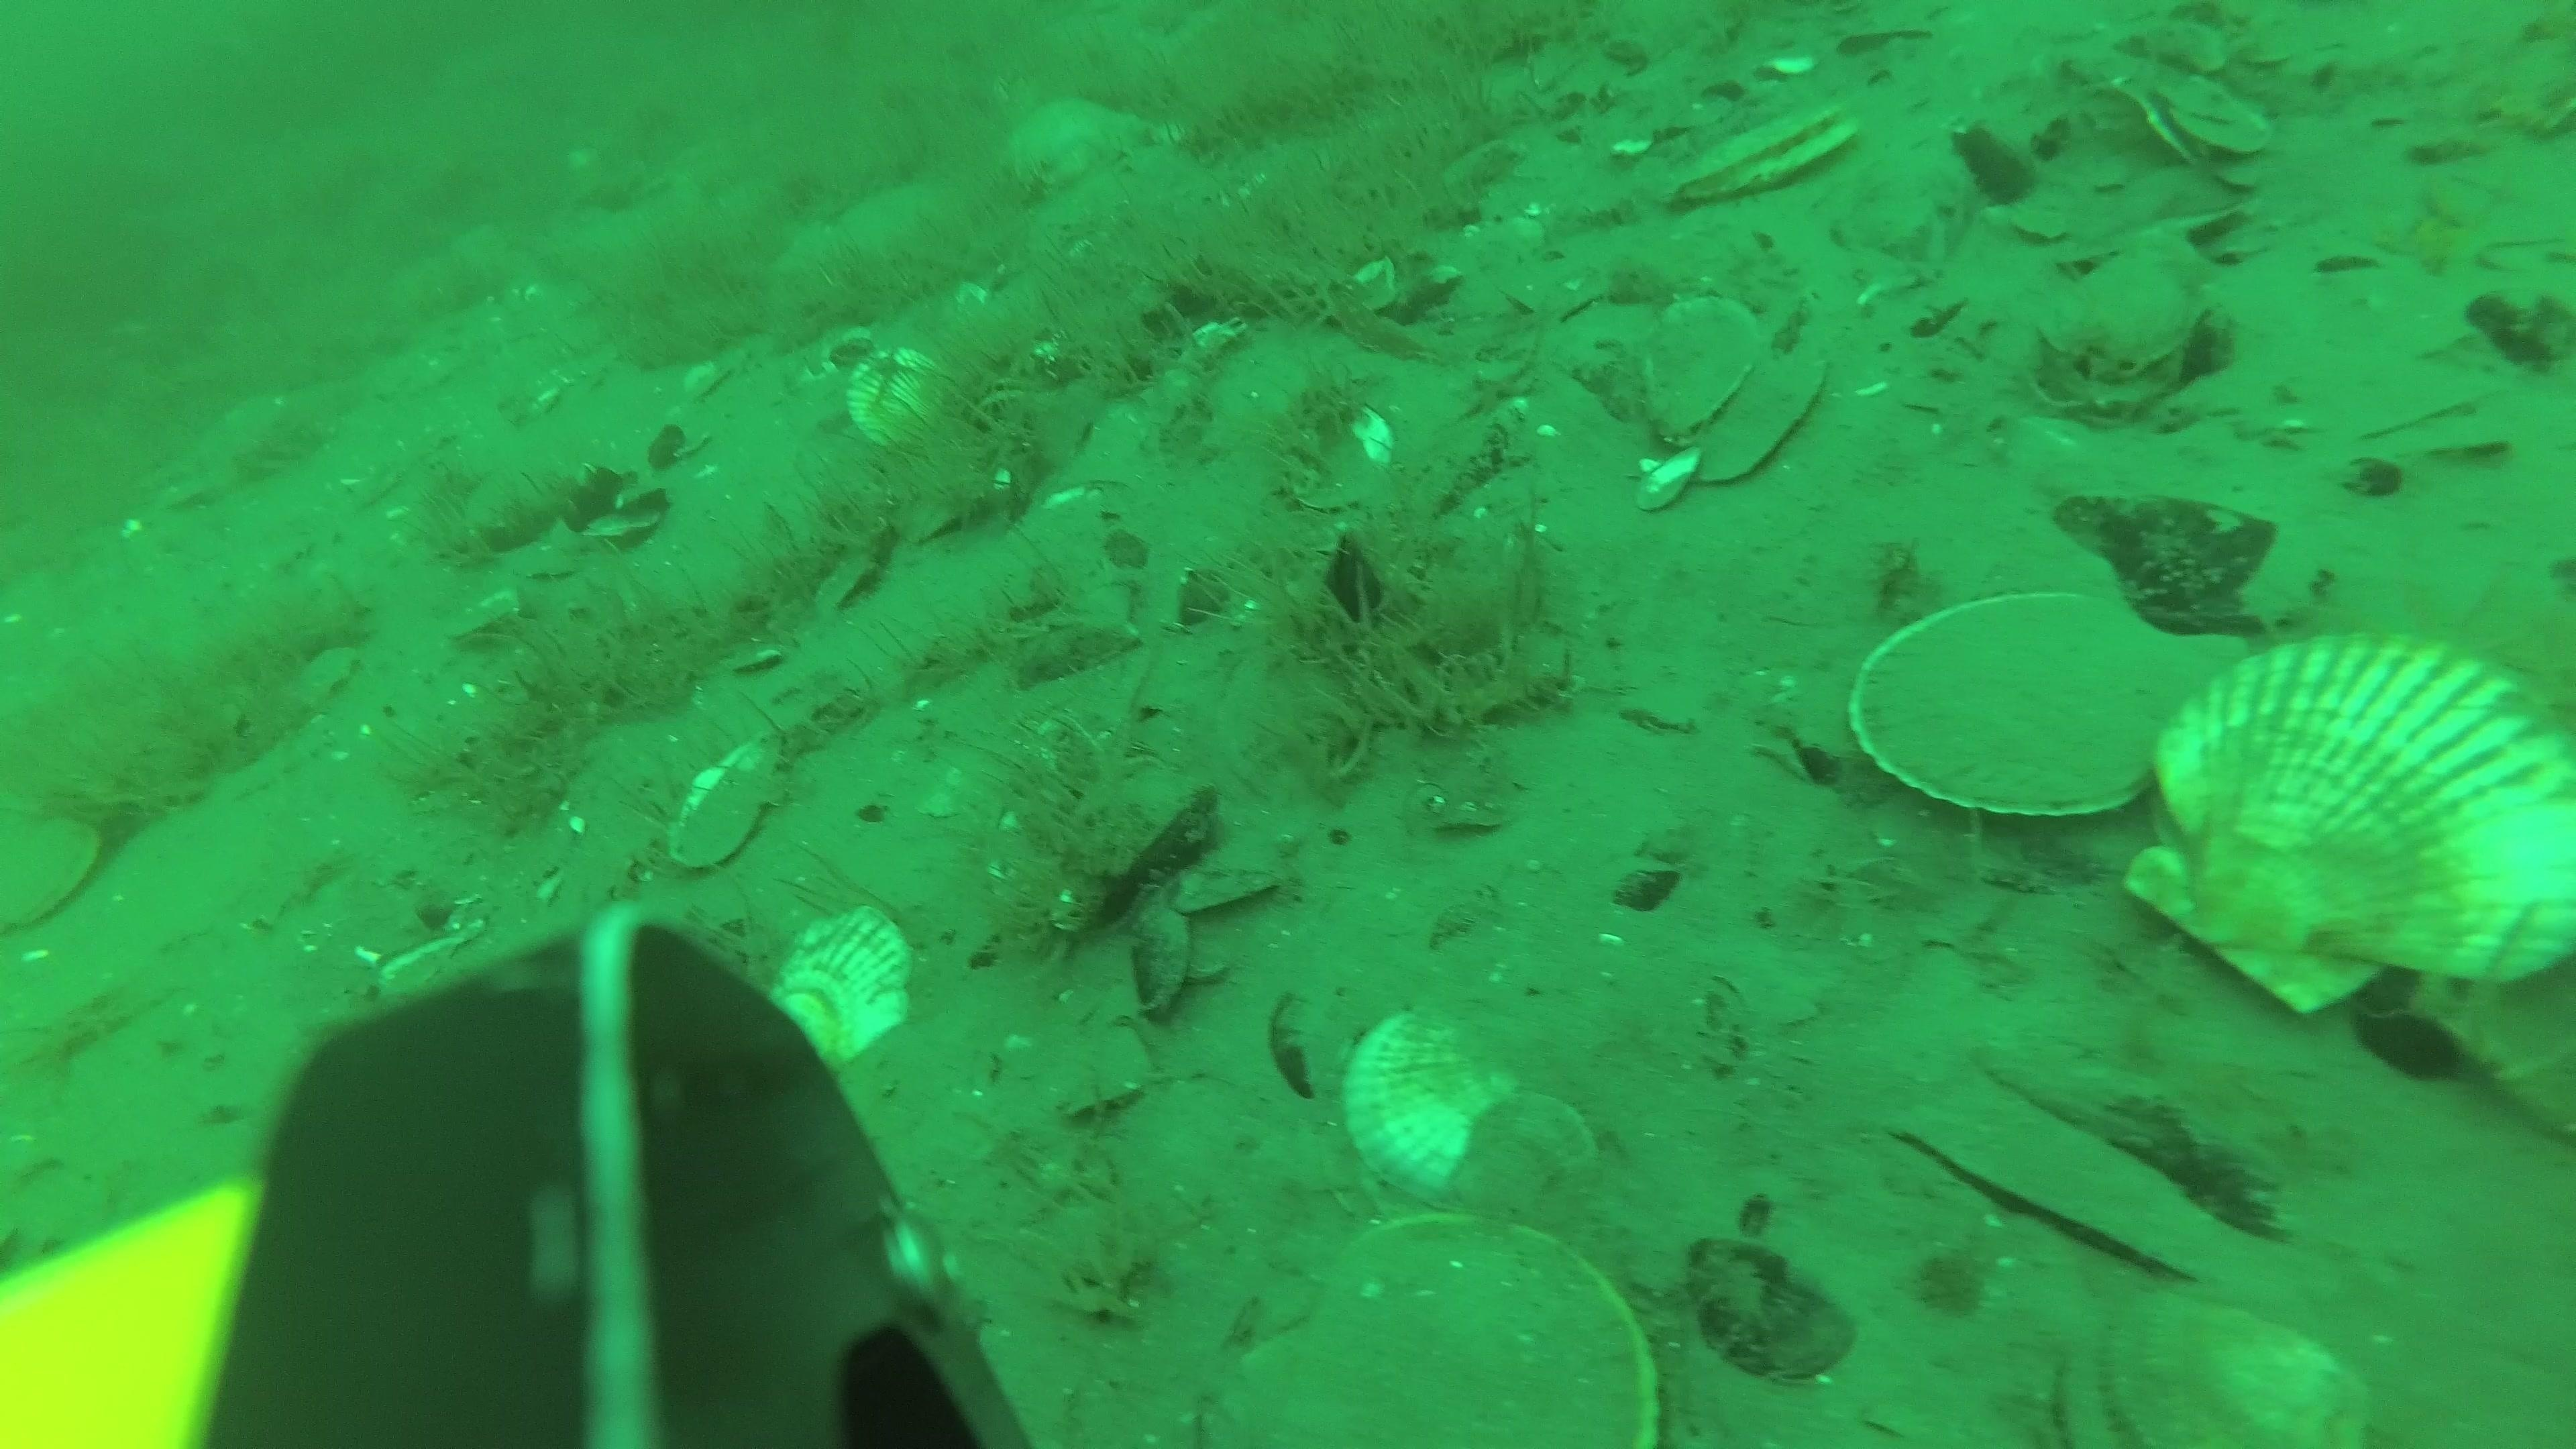scallop: (2127, 632, 2564, 1016), (1230, 1214, 1660, 1447), (1849, 587, 2250, 823), (2109, 1292, 2371, 1447), (1346, 1003, 1499, 1196), (763, 908, 916, 1077), (1667, 92, 1859, 205), (1635, 295, 1771, 444), (1691, 350, 1835, 487), (0, 803, 101, 936), (844, 345, 952, 455), (2148, 73, 2273, 163)
